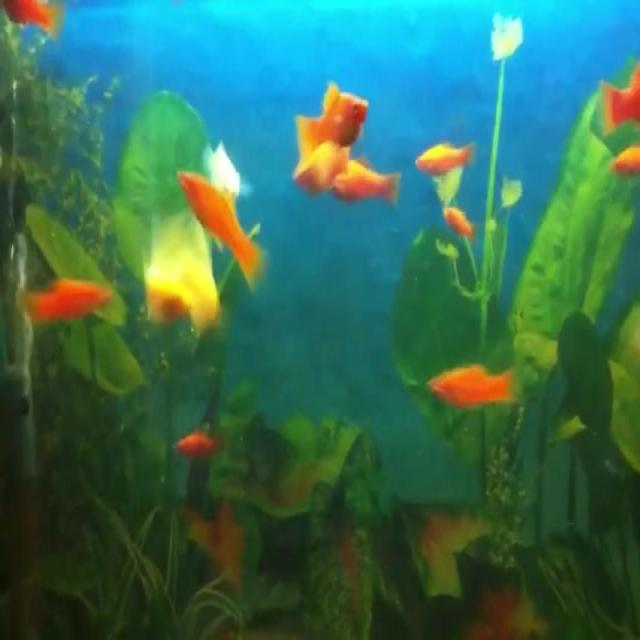PlatyFish: (172, 153, 276, 303), (284, 71, 372, 164)
